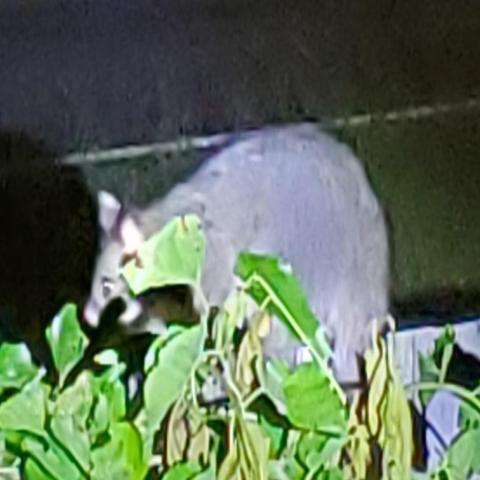small_animal: (82, 118, 393, 388)
